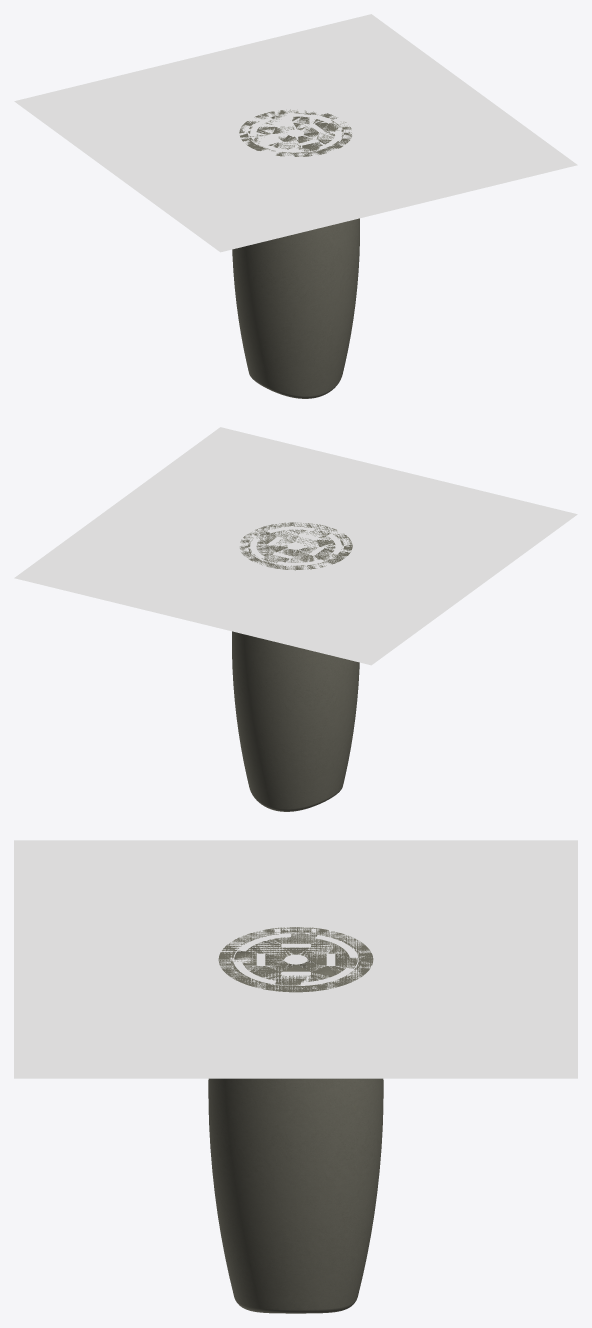
File: loe.glb
The picture shows the model from 3 angles, top to bottom: view 1: azimuth 30°, elevation 25°; view 2: azimuth 150°, elevation 25°; view 3: azimuth 270°, elevation 25°; orthographic projection. The views are drawn at different scales.
Parts seen in each view (by area): view 1: Holo; view 2: Holo; view 3: Holo.
Boxes of the visible parts, left/top/right/bottom form: Holo: left=14, top=14, right=577, bottom=398; Holo: left=14, top=427, right=577, bottom=811; Holo: left=14, top=840, right=577, bottom=1313.
Bounding box in the file's own units: 0.2917 × 0.1945 × 0.2917.
10 materials, 3 textured.
